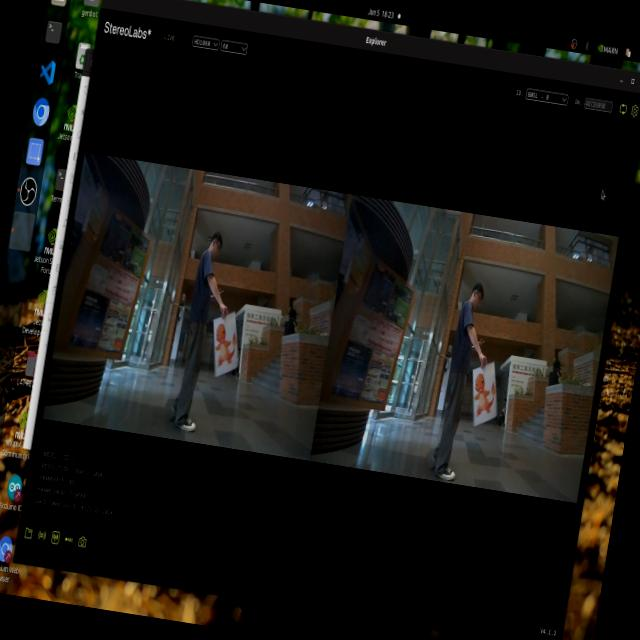red: (210, 320, 259, 382), (467, 358, 502, 423)
